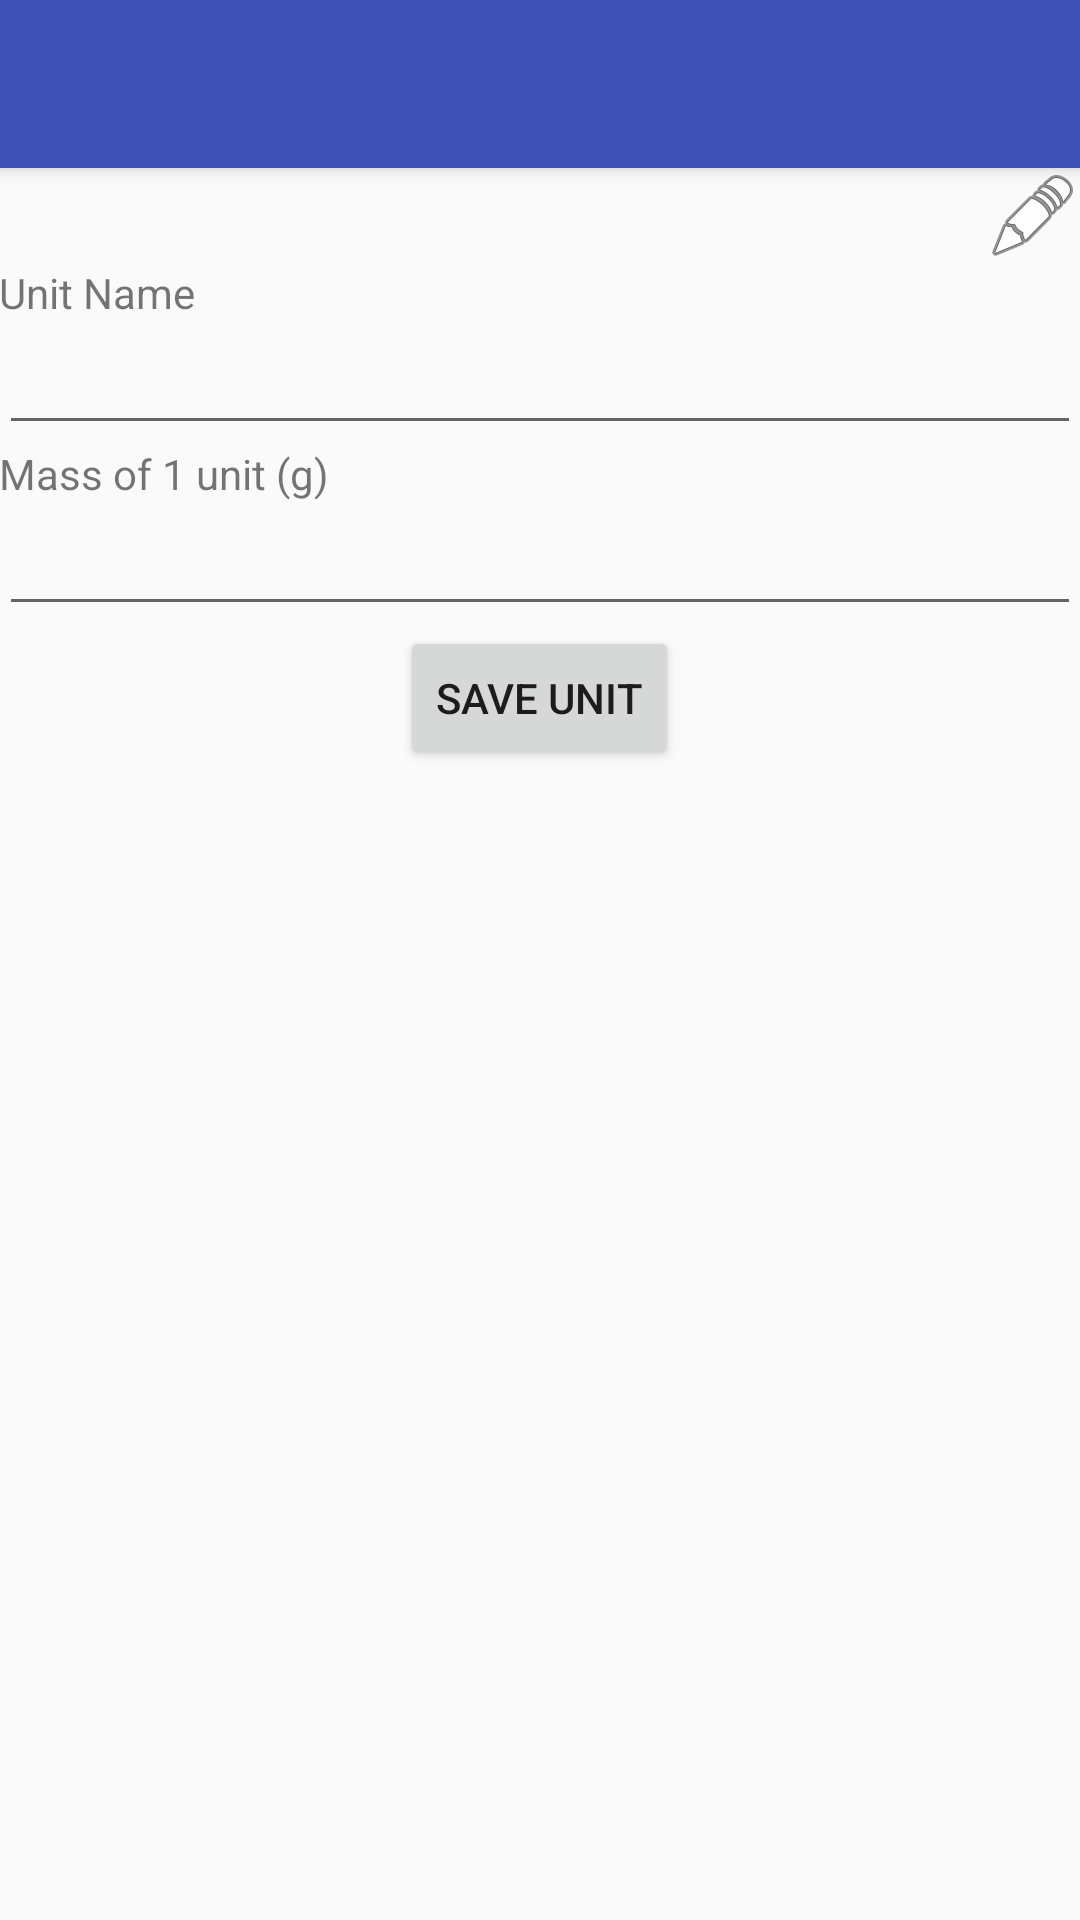

Icon bounding boxes for this 1080px×1920px phone screenshot, format (x1, y1, x2, y2):
edit: (992, 175, 1073, 256)
